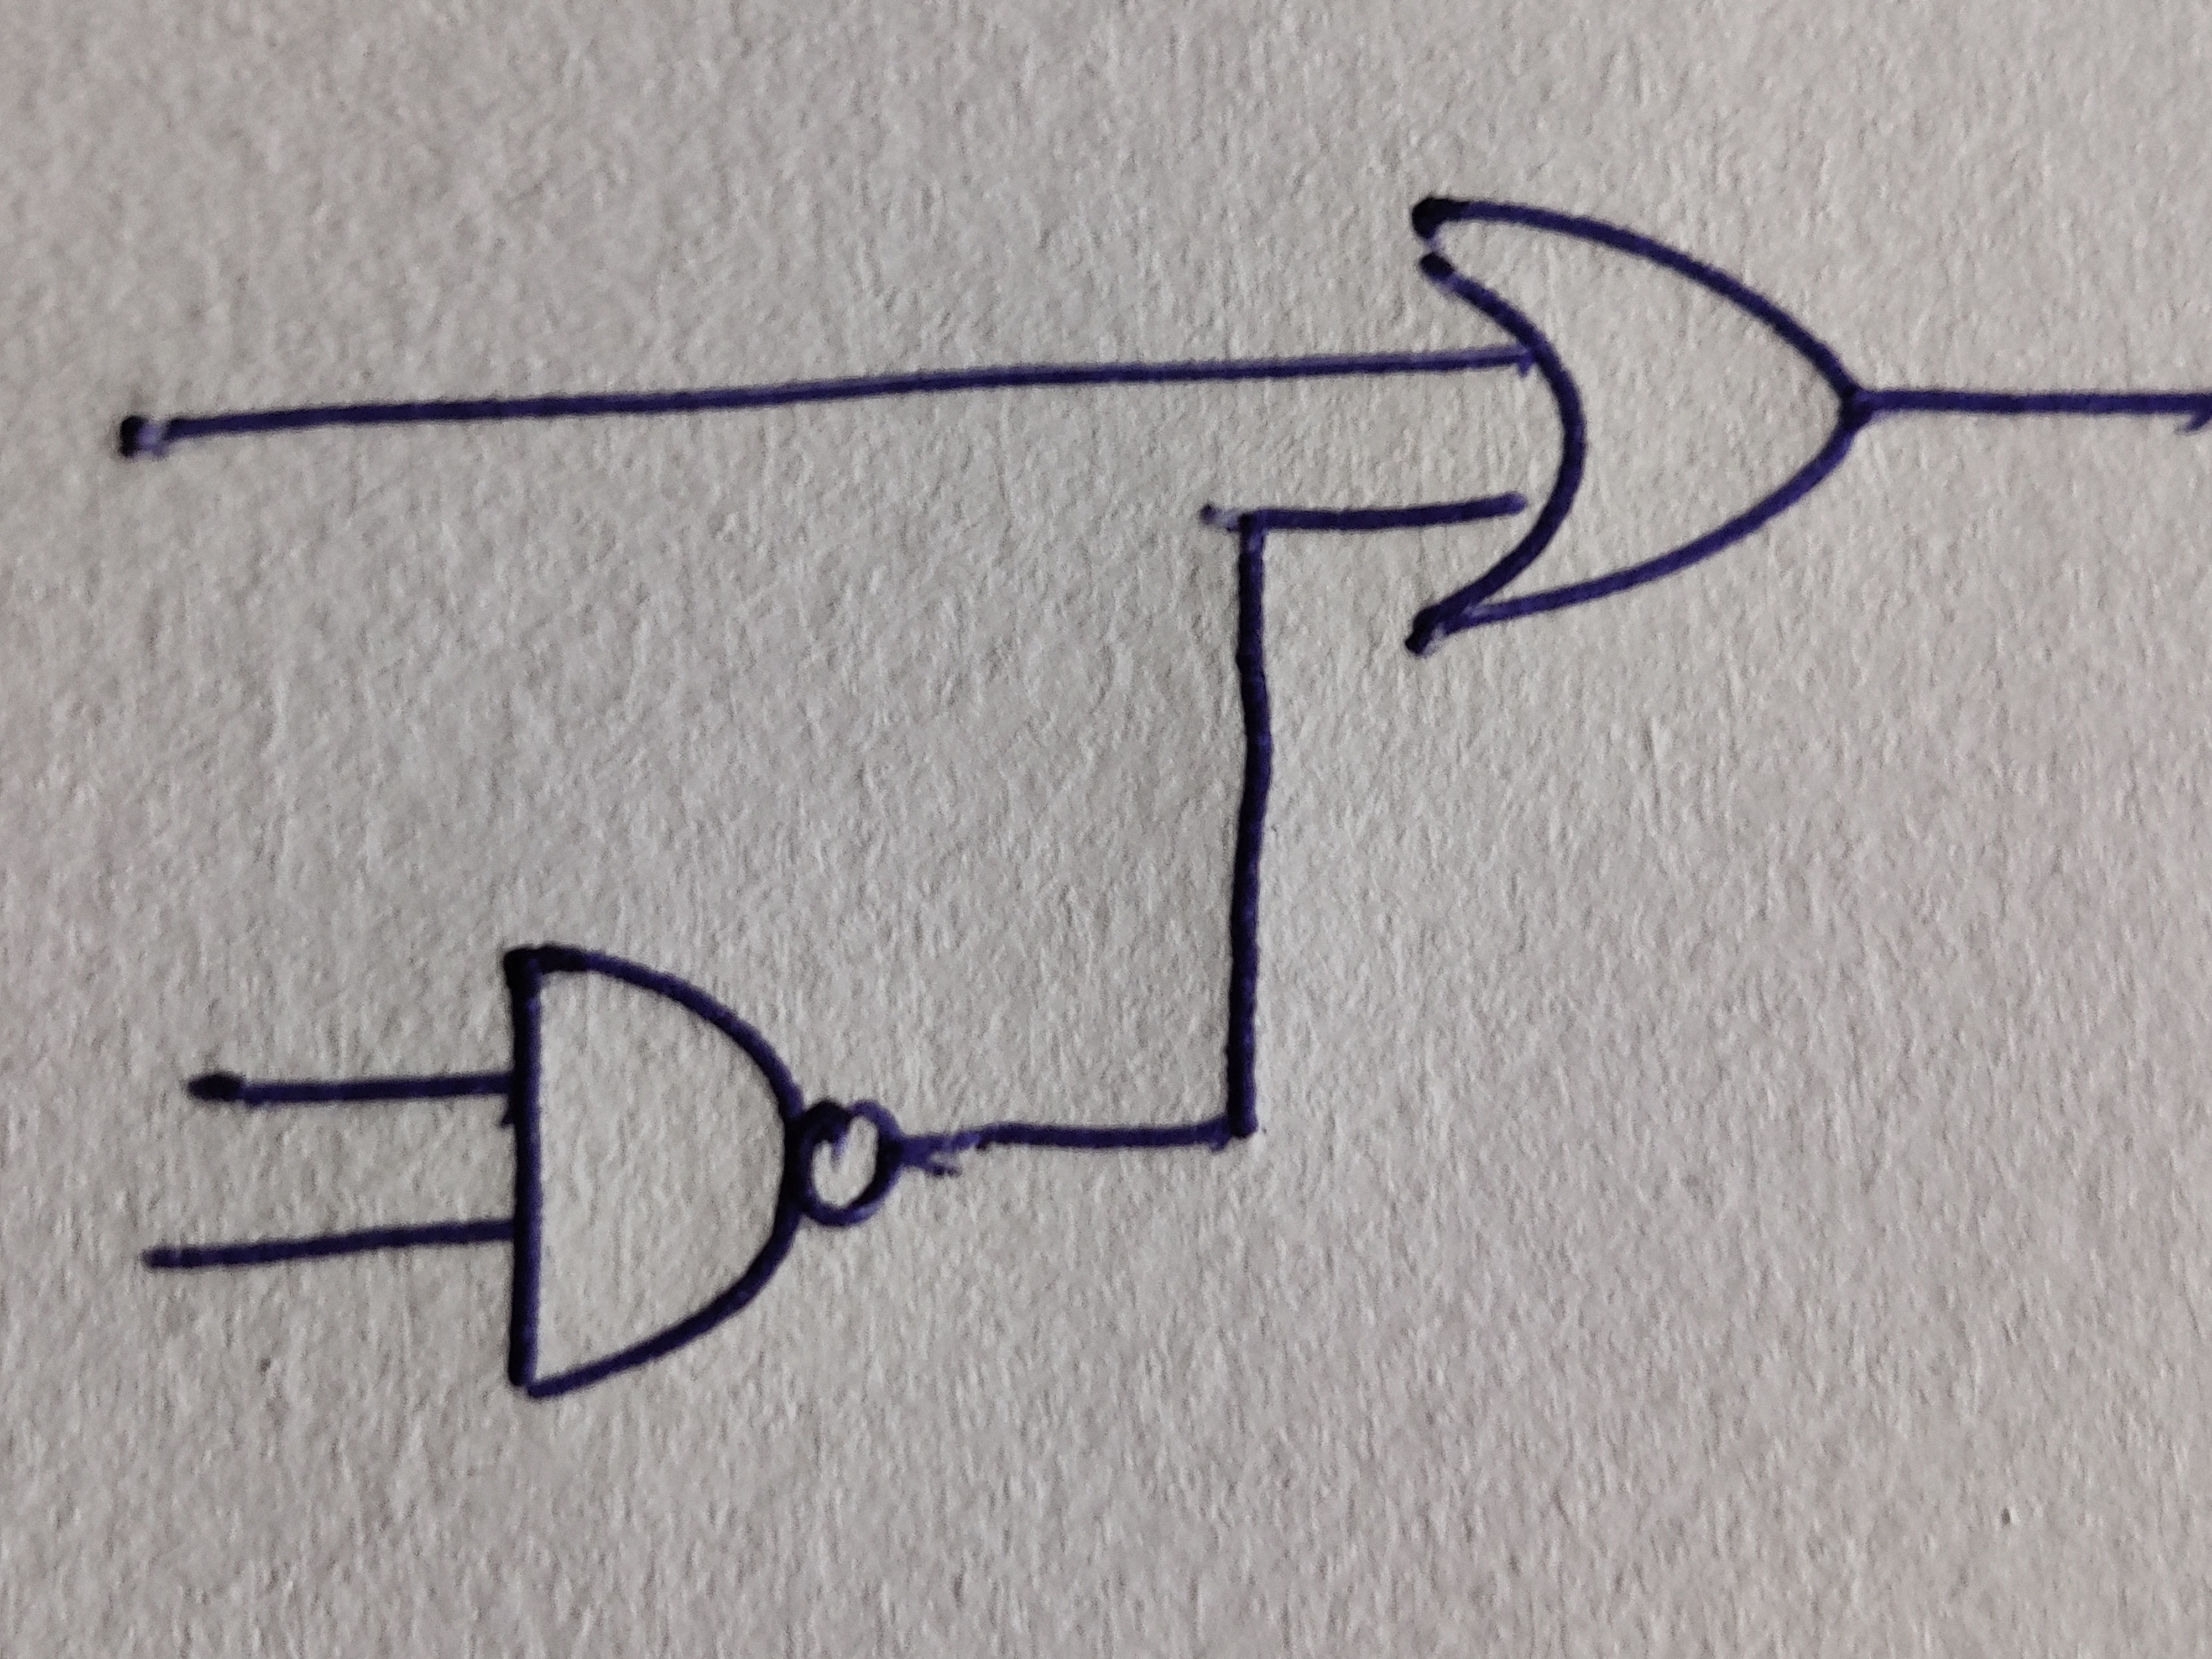and: (502, 943, 808, 1399)
not: (805, 1100, 900, 1230)
or: (1409, 195, 1865, 655)
